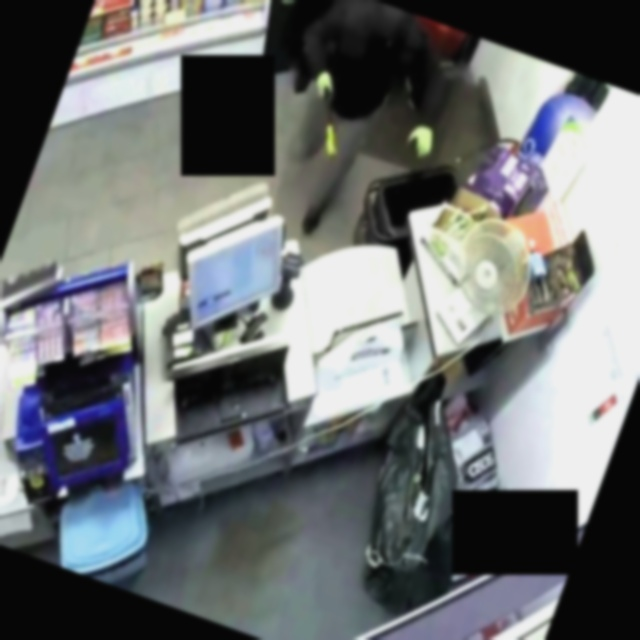gun: (290, 69, 365, 167)
